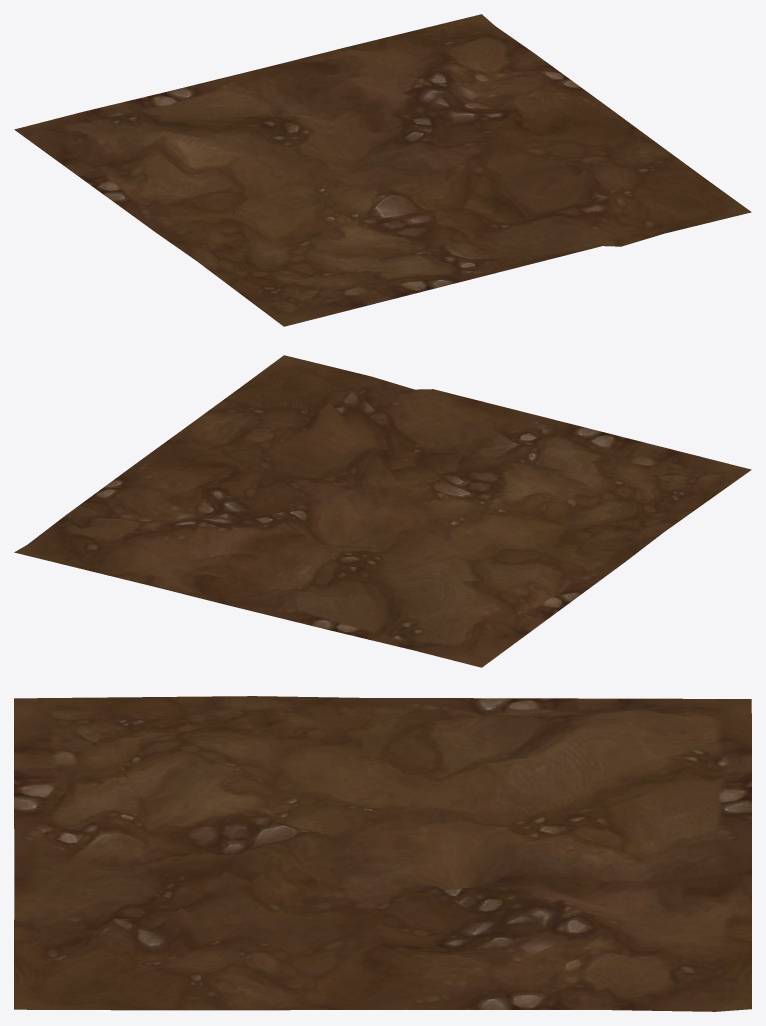
The model's file is Ground_01.fbx.
3 renders of one model, top to bottom at view 1: azimuth 30°, elevation 25°; view 2: azimuth 150°, elevation 25°; view 3: azimuth 270°, elevation 25°, orthographic. The views are drawn at different scales.
Parts seen in each view (by area): view 1: Ground_01_с.001; view 2: Ground_01_с.001; view 3: Ground_01_с.001.
Part boxes in pixels (x1=…): Ground_01_с.001: x1=14, y1=14, x2=751, y2=326; Ground_01_с.001: x1=14, y1=355, x2=751, y2=667; Ground_01_с.001: x1=14, y1=696, x2=751, y2=1011.
Size of the model in its own units: 200 by 17.64 by 200.
